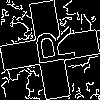R: (25, 25, 76, 69)
